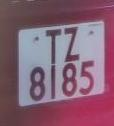1: (46, 62, 61, 102)
5: (77, 57, 98, 102)
8: (23, 60, 50, 105), (59, 60, 81, 101)
T: (44, 25, 65, 69)
Z: (62, 22, 82, 67)
